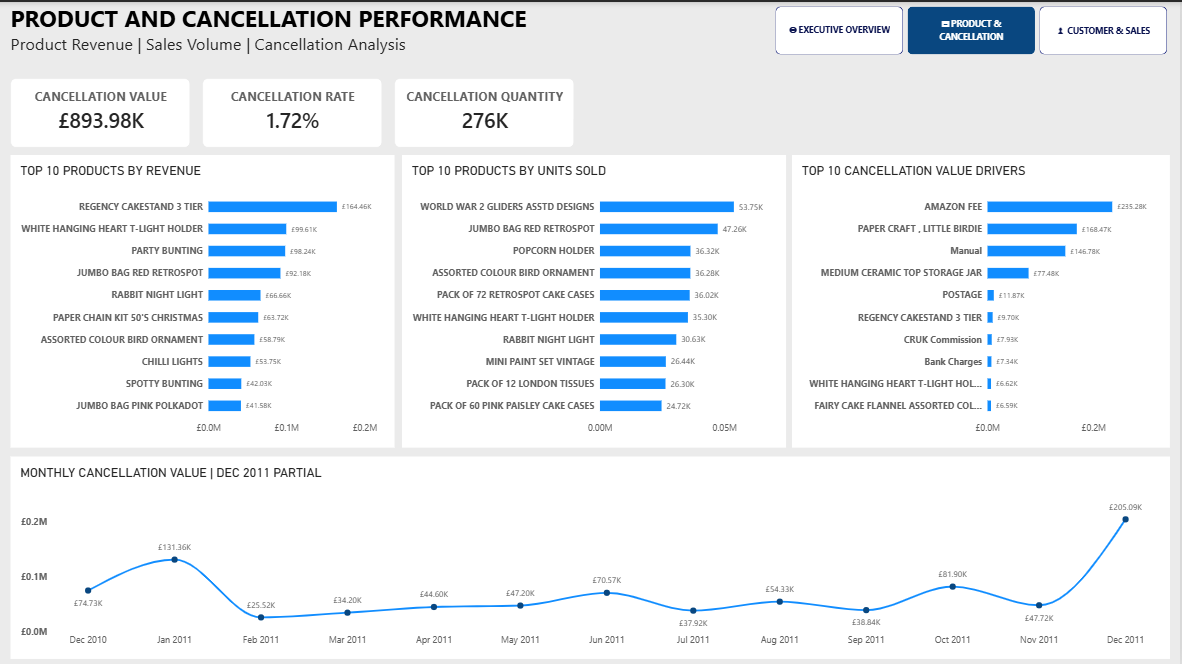

This screenshot's page, from the dashboard's own definition file:
{"tool":"powerbi","page":{"name":"PRODUCT AND CANCELLATION PERFORMANCE","canvas":[1920,1080],"ordinal":1},"visuals":[{"type":"textbox","box":[17.1,0,1300.4,102.5],"z":0},{"type":"cardVisual","fields":{"Data":["Online_retail_cleaned_v2.Cancellation Value"]},"box":[17.1,124.4,292.8,112.2],"z":1000},{"type":"cardVisual","fields":{"Data":["Online_retail_cleaned_v2.CANCELLATION RATE"]},"box":[329.4,124.4,292.8,112.2],"z":2000},{"type":"cardVisual","fields":{"Data":["Online_retail_cleaned_v2.CANCELLATION QUANTITY"]},"box":[641.7,124.4,292.8,112.2],"z":3000},{"type":"clusteredBarChart","title":"TOP 10 PRODUCTS BY REVENUE","fields":{"Category":["Online_retail_cleaned_v2.description"],"Y":["Online_retail_cleaned_v2.TOTAL REVENUE"]},"box":[17.1,248.9,624.6,475.8],"z":4000},{"type":"clusteredBarChart","title":"TOP 10 PRODUCTS BY UNITS SOLD","fields":{"Category":["Online_retail_cleaned_v2.description"],"Y":["Sum(Online_retail_cleaned_v2.quantity)"]},"box":[653.9,248.9,624.6,475.8],"z":5000},{"type":"clusteredBarChart","title":"TOP 10 CANCELLATION VALUE DRIVERS","fields":{"Category":["Online_retail_cleaned_v2.description"],"Y":["Online_retail_cleaned_v2.CANCELLATION VALUE"]},"box":[1288.2,248.9,614.8,475.8],"z":6000},{"type":"lineChart","title":"MONTHLY CANCELLATION VALUE | DEC 2011 PARTIAL","fields":{"Category":["Online_retail_cleaned_v2.Month Year"],"Y":["Online_retail_cleaned_v2.CANCELLATION VALUE"]},"box":[17.1,739.3,1886,329.4],"z":7000},{"type":"actionButton","box":[1262.2,7.3,207.4,78.1],"z":7001},{"type":"actionButton","box":[1690.7,8,207.4,78.1],"z":7002},{"type":"actionButton","box":[1476.9,7.3,207.4,78.1],"z":7003}]}

Visuals, with their boxes in screenshot pixels (x1, y1, x2, y2), scaled from the page's 1920x1080 canvas onto the 1182x664 screenshot:
textbox: (left=11, top=0, right=811, bottom=63)
cardVisual - Online_retail_cleaned_v2.Cancellation Value: (left=11, top=76, right=191, bottom=145)
cardVisual - Online_retail_cleaned_v2.CANCELLATION RATE: (left=203, top=76, right=383, bottom=145)
cardVisual - Online_retail_cleaned_v2.CANCELLATION QUANTITY: (left=395, top=76, right=575, bottom=145)
"TOP 10 PRODUCTS BY REVENUE" clusteredBarChart: (left=11, top=153, right=395, bottom=446)
"TOP 10 PRODUCTS BY UNITS SOLD" clusteredBarChart: (left=403, top=153, right=787, bottom=446)
"TOP 10 CANCELLATION VALUE DRIVERS" clusteredBarChart: (left=793, top=153, right=1172, bottom=446)
"MONTHLY CANCELLATION VALUE | DEC 2011 PARTIAL" lineChart: (left=11, top=455, right=1172, bottom=657)
actionButton: (left=777, top=4, right=905, bottom=53)
actionButton: (left=1041, top=5, right=1169, bottom=53)
actionButton: (left=909, top=4, right=1037, bottom=53)
